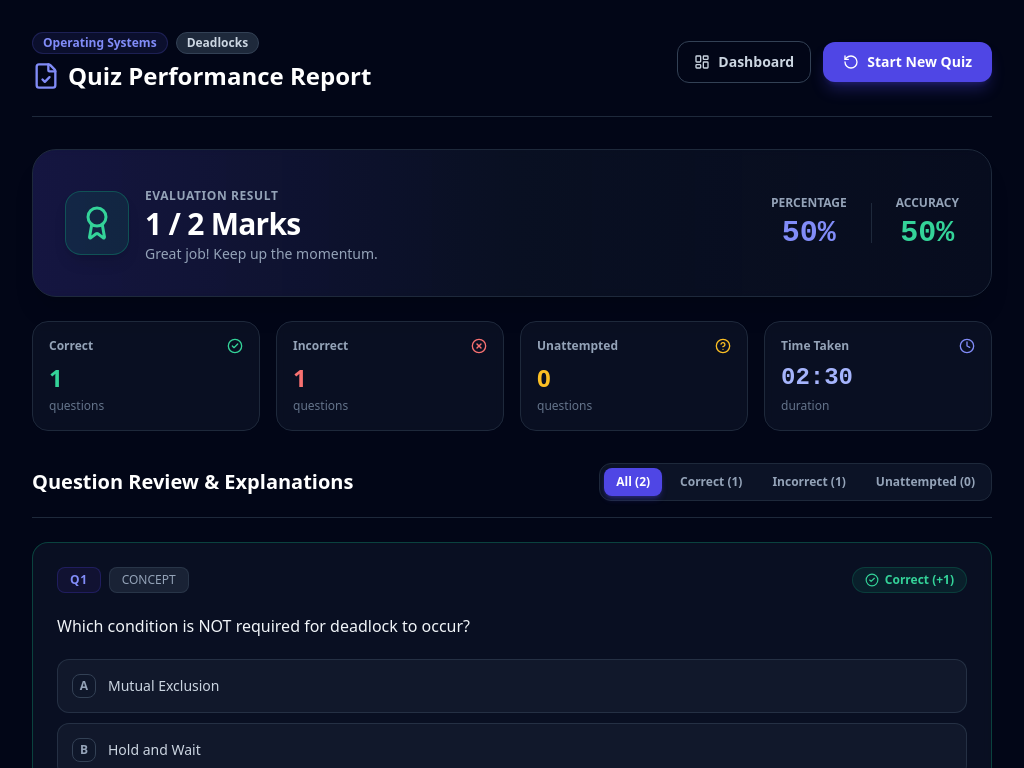
Test: Quiz Result & Review UI (PROMPT 22) › filters questions review list by Correct and Incorrect tabs
Expected: the text "Which condition is NOT required for deadlock to occur?" is shown, [57,615,470,637]
Note: Click "Correct (1)" filter tab
Click the button "Correct (1)".
click(711, 482)  # box [668,468,754,496]
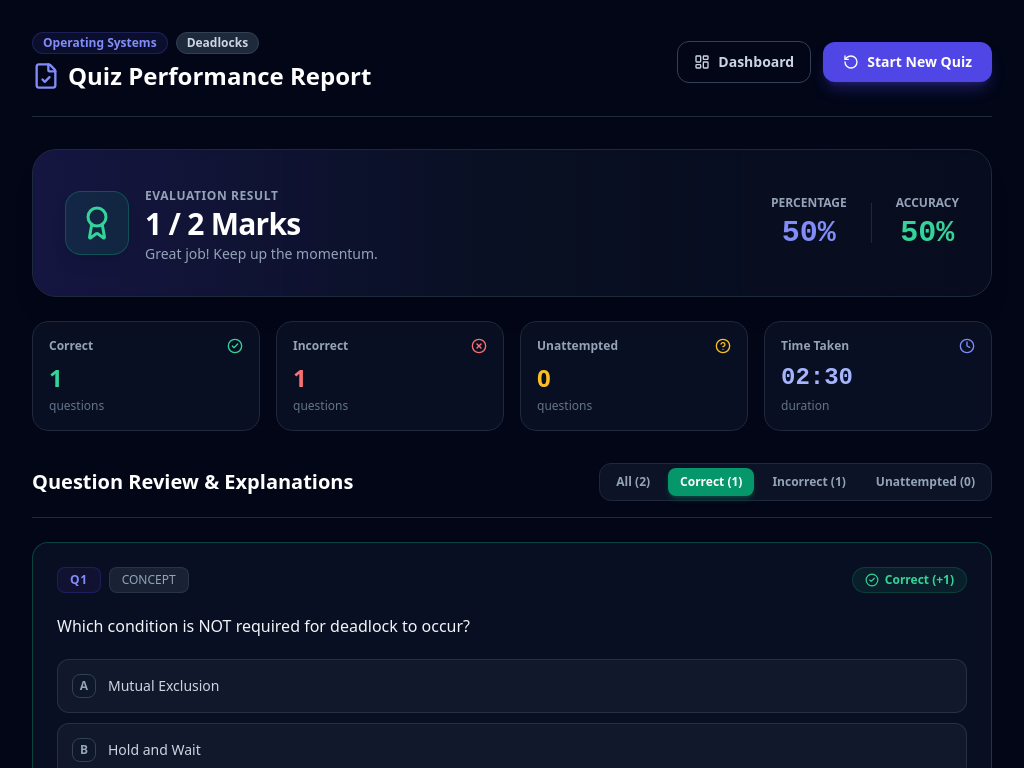
Expected: the text "Which condition is NOT required for deadlock to occur?" is shown, [57,615,470,637]
Expected: the text "Banker algorithm is used for:" is not shown
Note: Click "Incorrect (1)" filter tab
Click the button "Incorrect (1)".
click(809, 482)  # box [760,468,858,496]
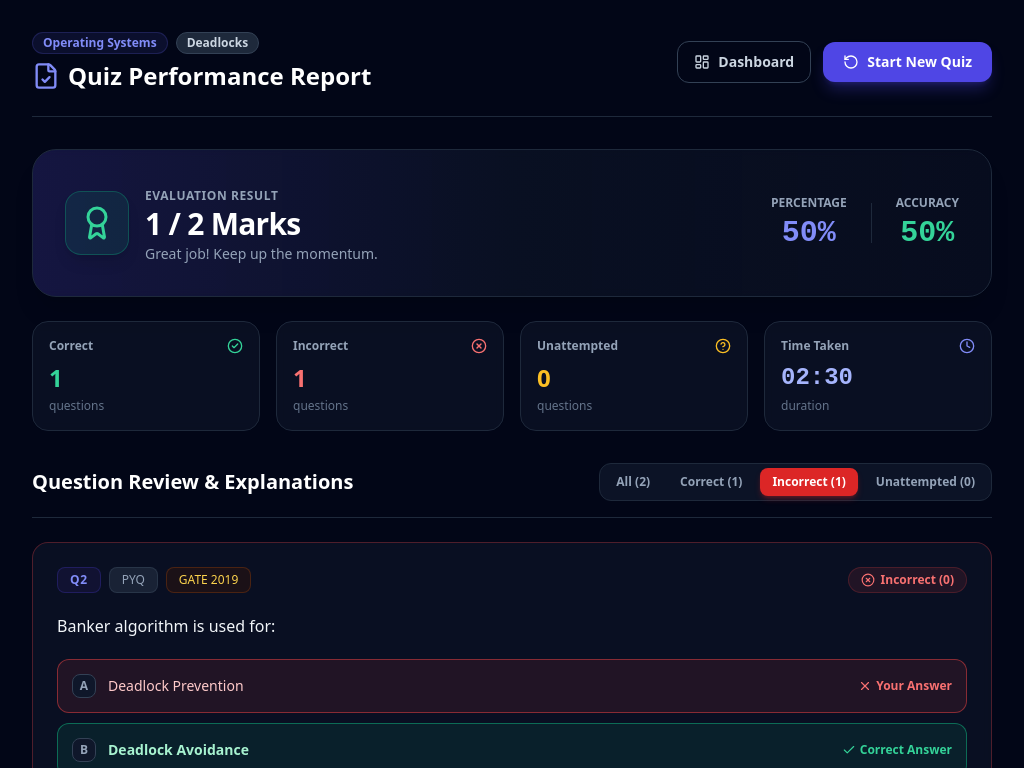
Expected: the text "Banker algorithm is used for:" is shown, [57,615,275,637]
Expected: the text "Which condition is NOT required for deadlock to occur?" is gone
